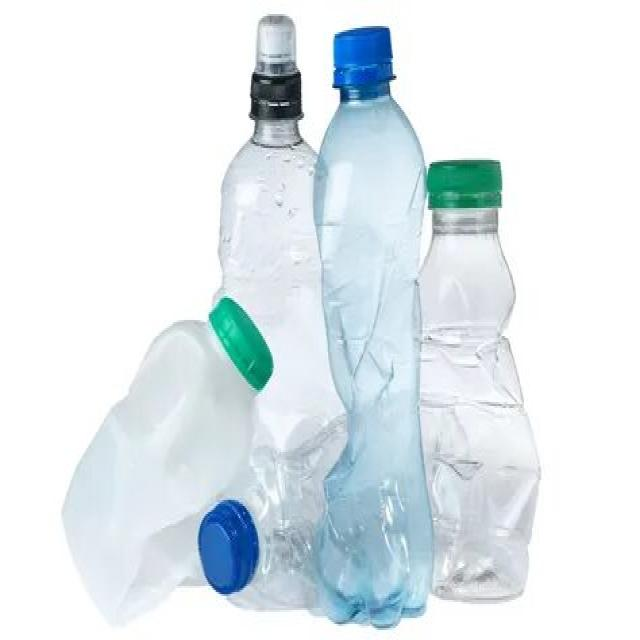blue: (310, 78, 434, 630)
